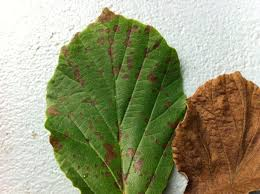Diseased_Leaves: (194, 86, 257, 190), (83, 29, 160, 87), (49, 104, 101, 146), (123, 139, 159, 190), (106, 146, 113, 158)
